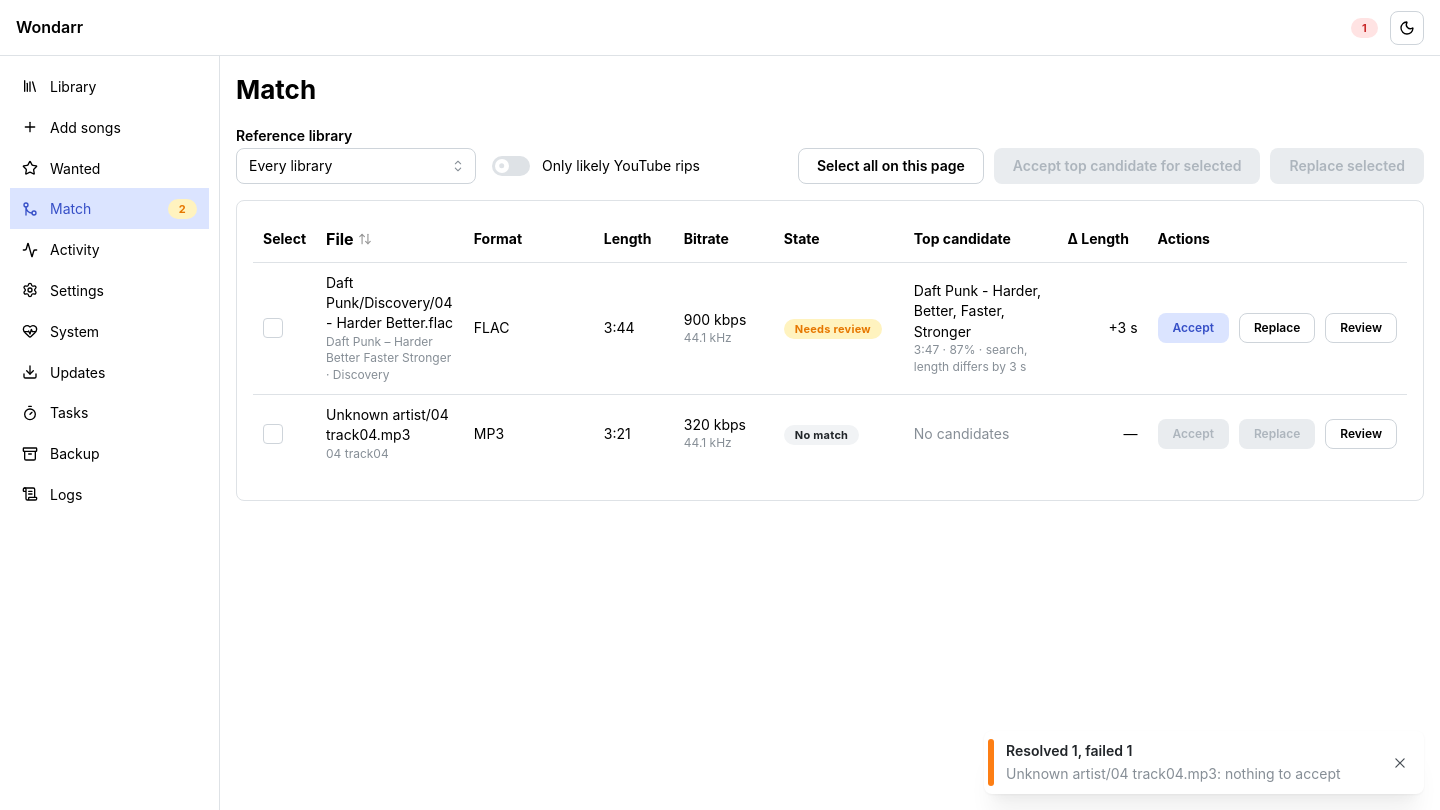
Scenario: MatchQueuePage › replaces a file with a better copy of its top candidate and says what happened
The width and height of the screenshot is (1440, 810).
Click the button "Replace" in the row of "3:44": (1277, 328) [1239, 313, 1315, 343]
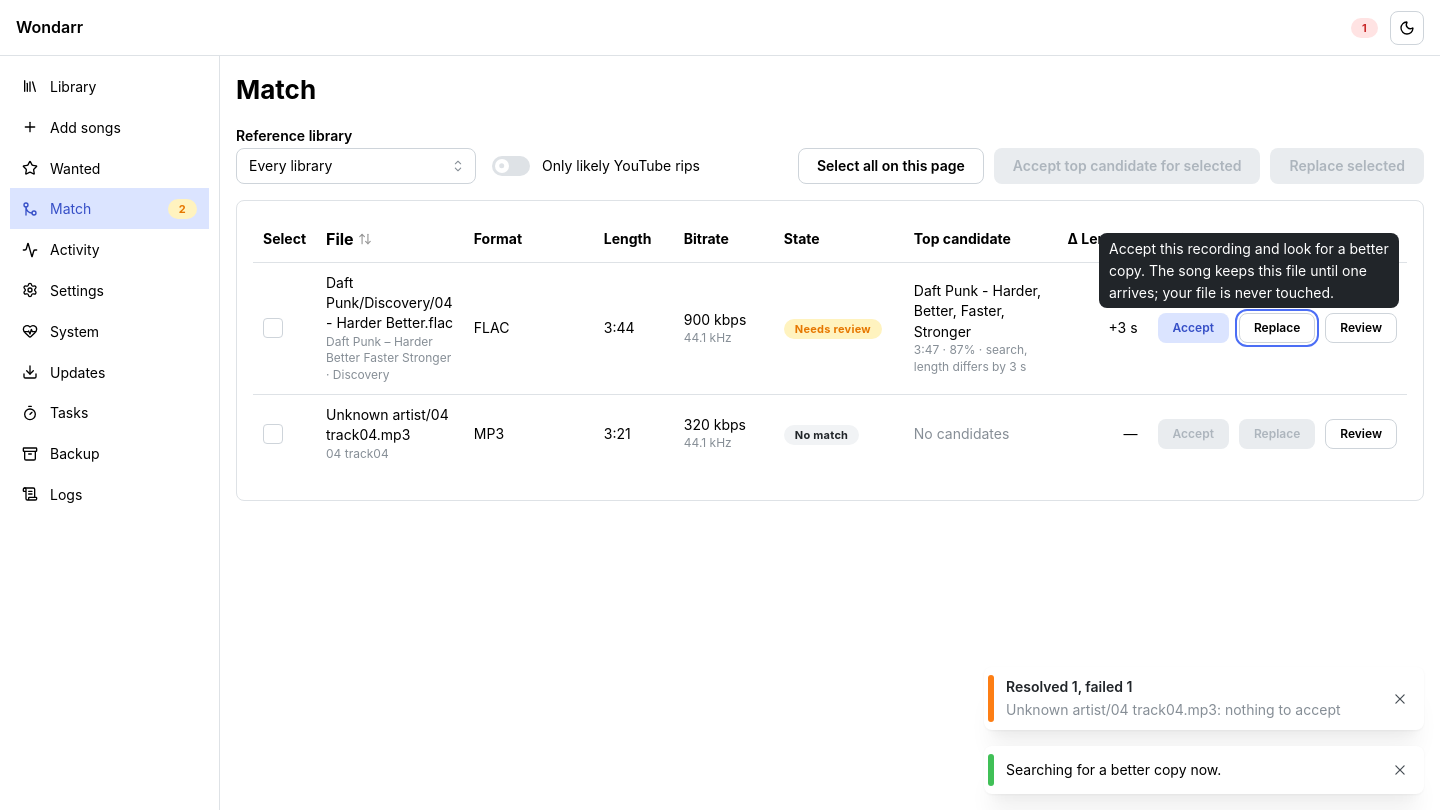
Expected: the text "Searching for a better copy now." is shown, [1006, 761, 1221, 778]
